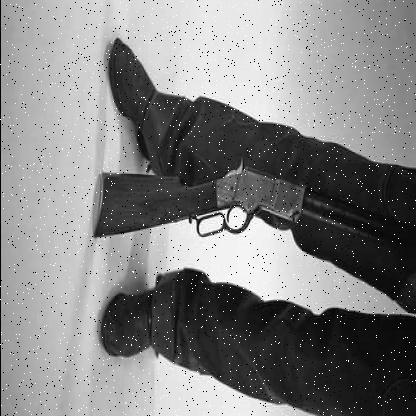rifle: (85, 139, 416, 273)
